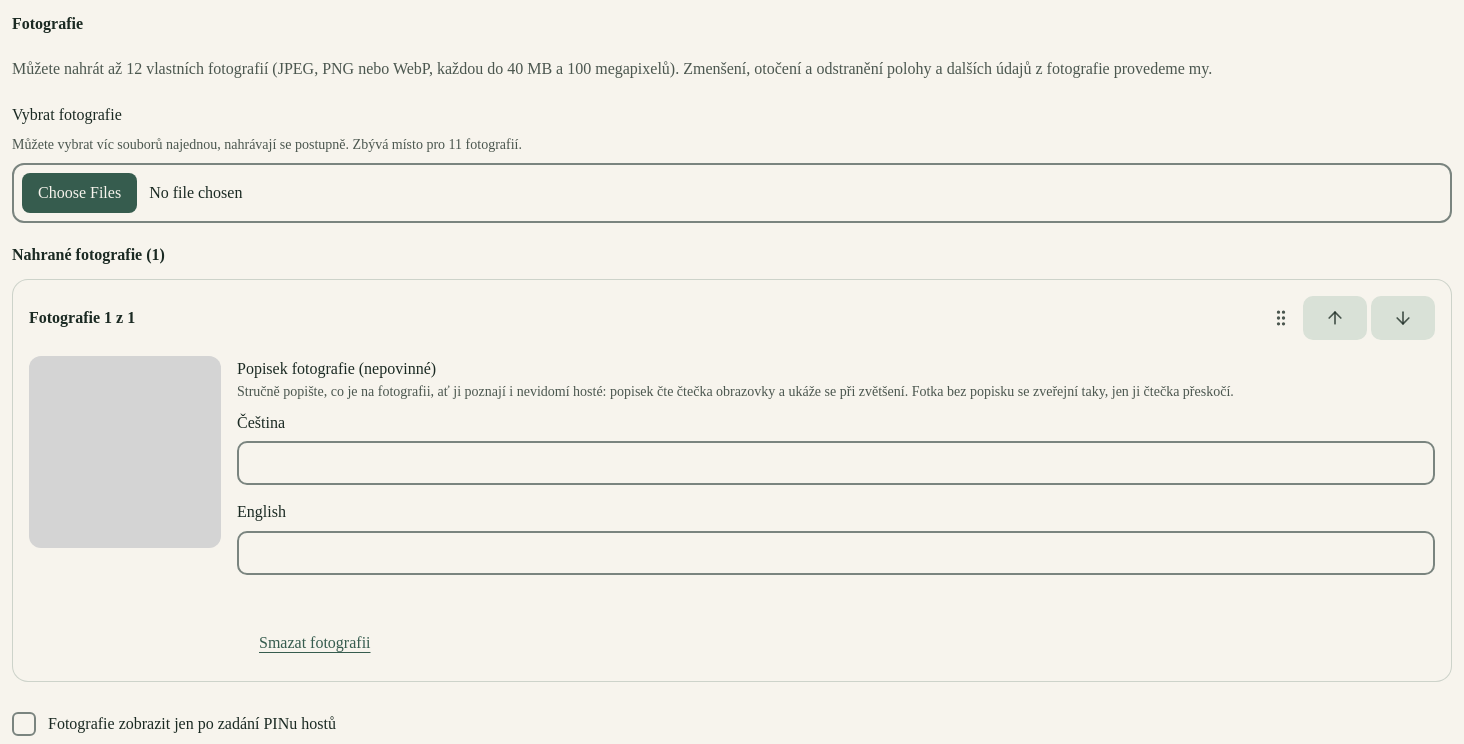
PhotosPanel › selhání smazání se hlásí a fotografie zůstane
Click the button with aria-label "Smazat fotografii 1": {"x": 315, "y": 643} [237,621,392,665]
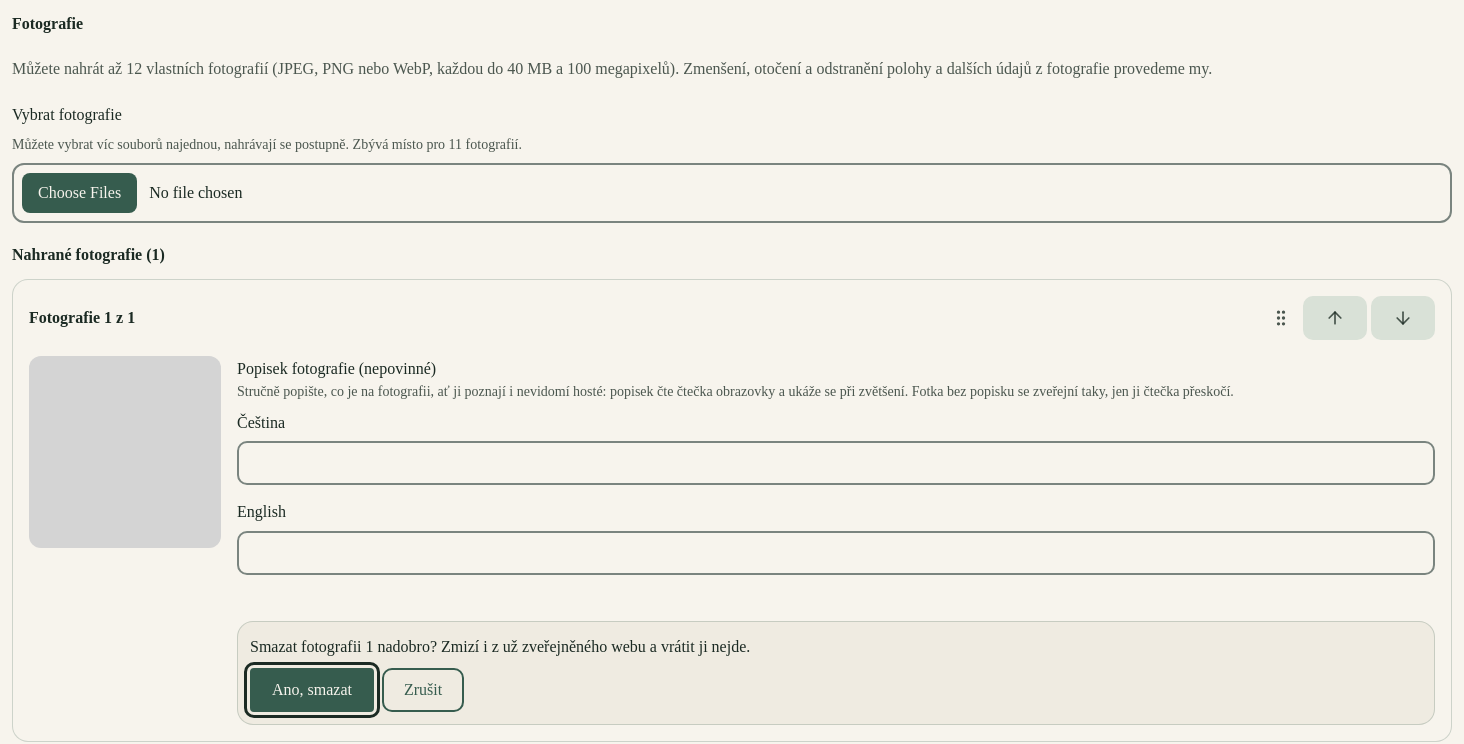
Click the button "Ano, smazat": {"x": 312, "y": 690} [250,668,374,712]
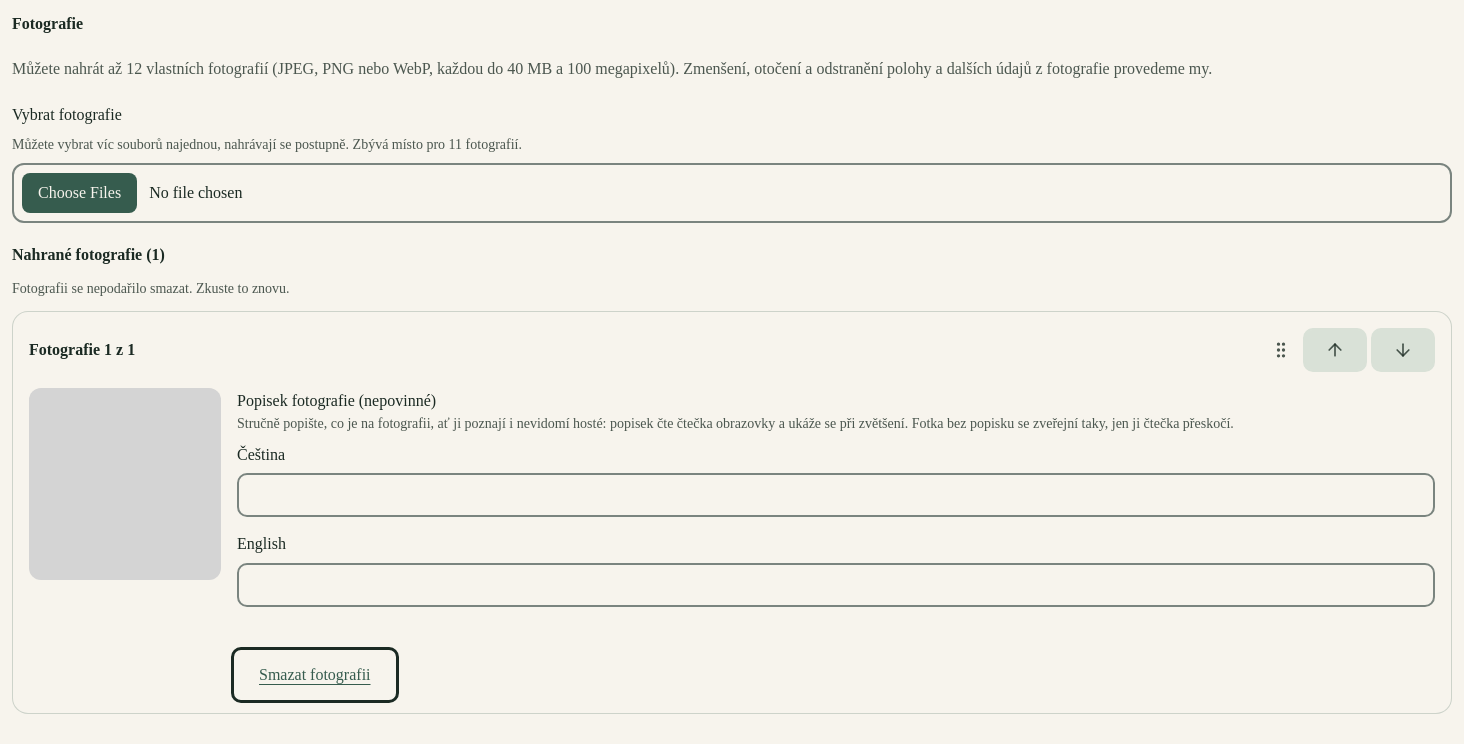
Expected: the element that starts with "Fotografie 1 z 1" is shown, [29,328,1435,697]
Result: the text "Fotografii se nepodařilo smazat. Zkuste to znovu." is shown at [12,281,290,296]
